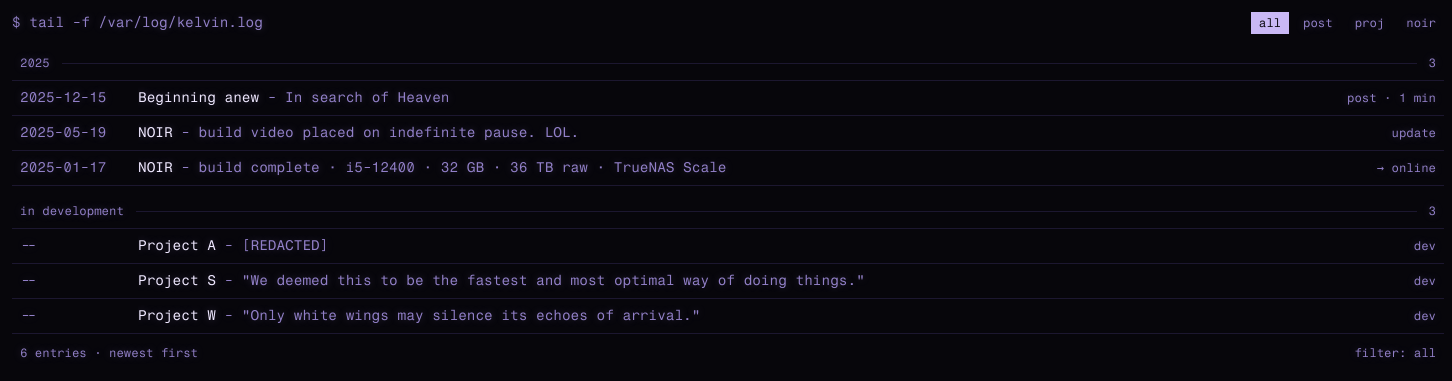
Test case: Home › restores the full log when 'all' is selected again
Click the button "noir".
click(1421, 23)  # box [1398, 12, 1444, 34]
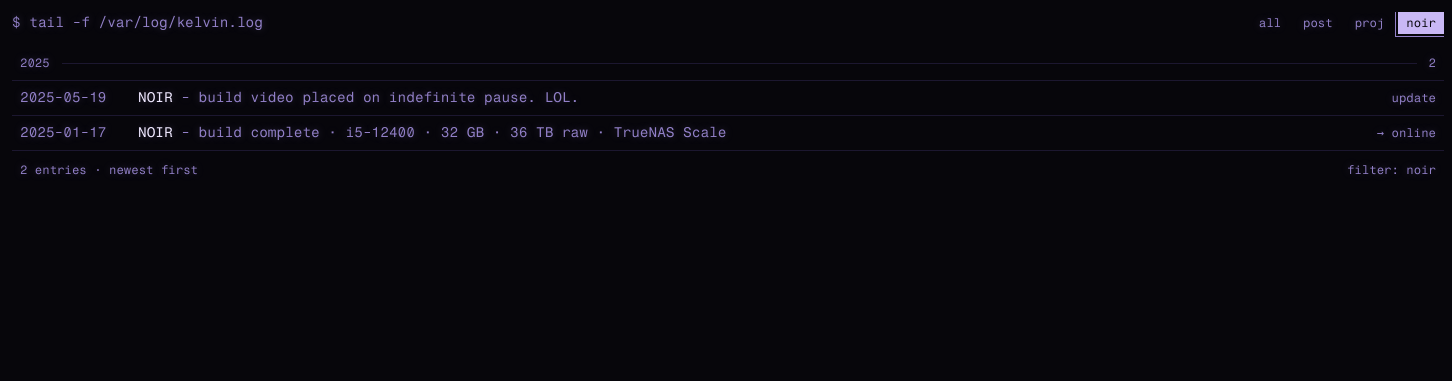
Click the button "all".
click(1270, 23)  # box [1251, 12, 1289, 34]
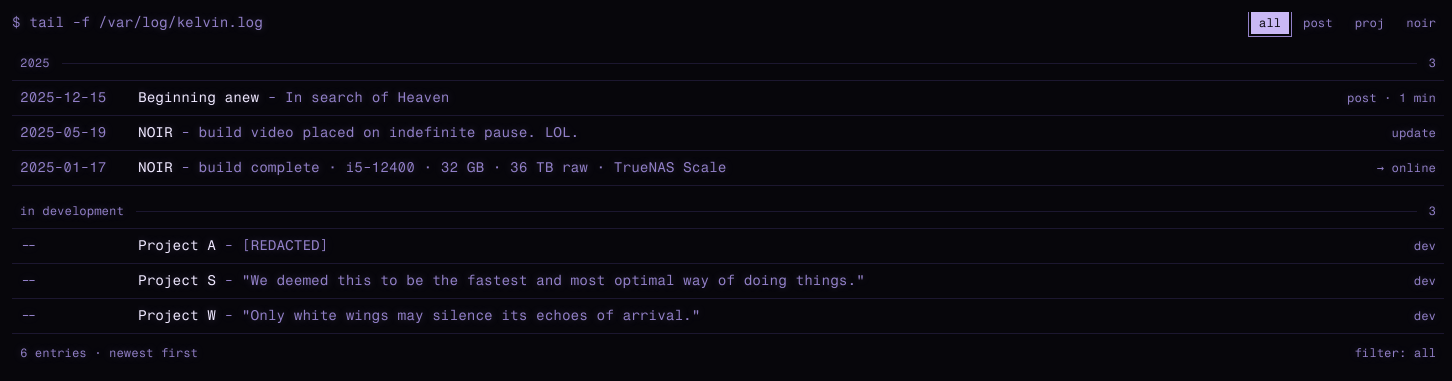
Result: the number of links with test id "log-row" is 6 at [12, 80, 1444, 115]; [12, 115, 1444, 150]; [12, 150, 1444, 185]; [12, 228, 1444, 263]; [12, 263, 1444, 298]; [12, 298, 1444, 333]
Result: the text "6 entries · newest first" is shown at [20, 342, 198, 364]
Result: the text "filter: all" is shown at [1354, 342, 1436, 364]
